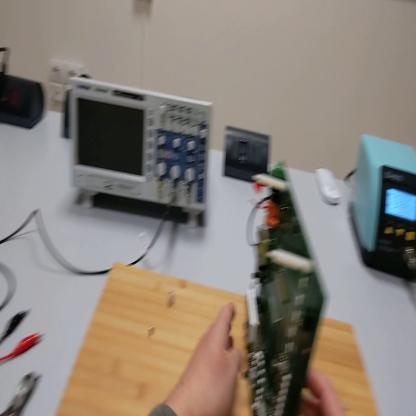hand: (172, 300, 242, 415), (301, 369, 346, 416)
low voltage board: (236, 165, 327, 415)
oscilloscope: (70, 76, 215, 237)
pliers: (1, 374, 40, 416)
socket: (1, 73, 48, 133), (61, 86, 72, 136)
welder station: (347, 134, 416, 283)
working area: (57, 266, 377, 415)
